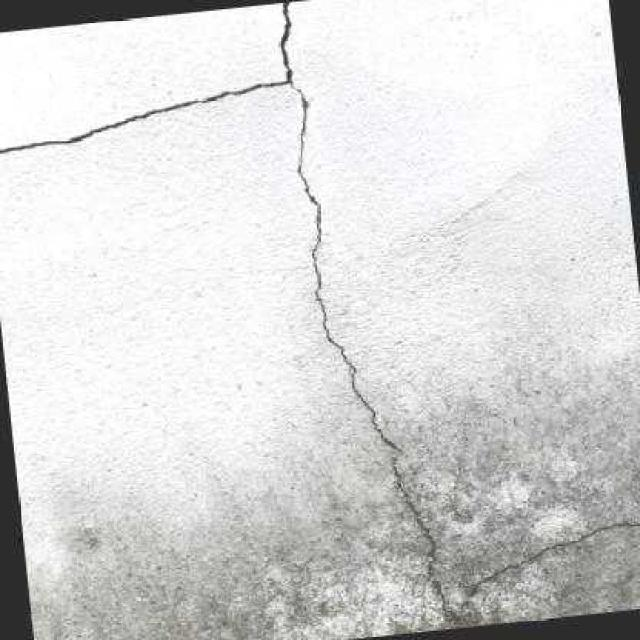D00: (0, 1, 455, 621), (455, 522, 640, 619)
